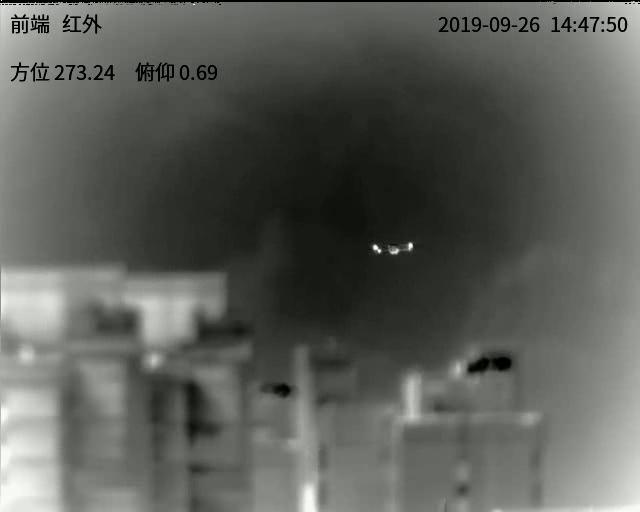DRONE: (370, 240, 414, 257)
